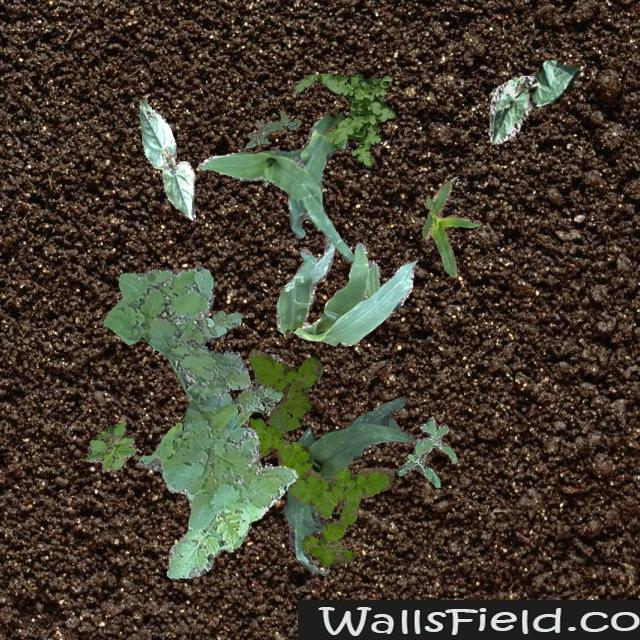crop: (196, 111, 354, 262), (282, 396, 413, 574), (276, 234, 416, 344), (486, 58, 580, 144), (138, 100, 195, 220), (420, 176, 480, 276)
weed: (102, 264, 296, 578), (248, 416, 392, 566), (292, 72, 394, 166), (248, 348, 320, 431), (396, 416, 456, 486), (234, 354, 282, 426), (86, 420, 134, 470), (246, 110, 300, 146)
